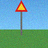sign: (15, 0, 28, 35)
